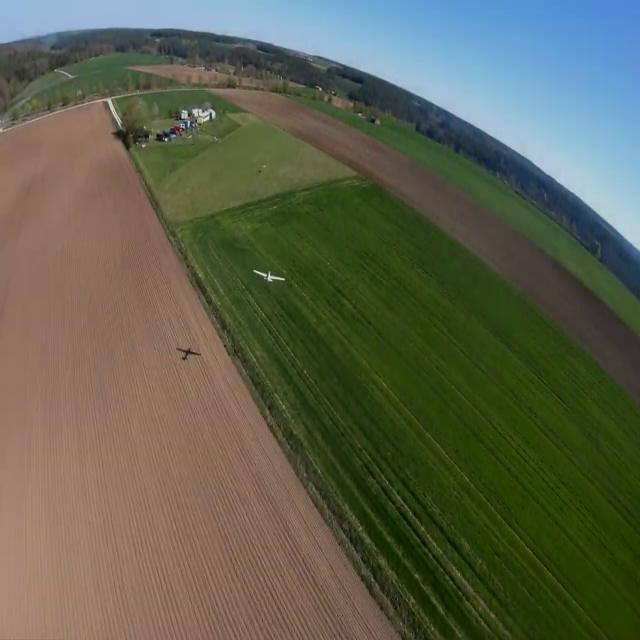iha: (252, 268, 286, 285)
